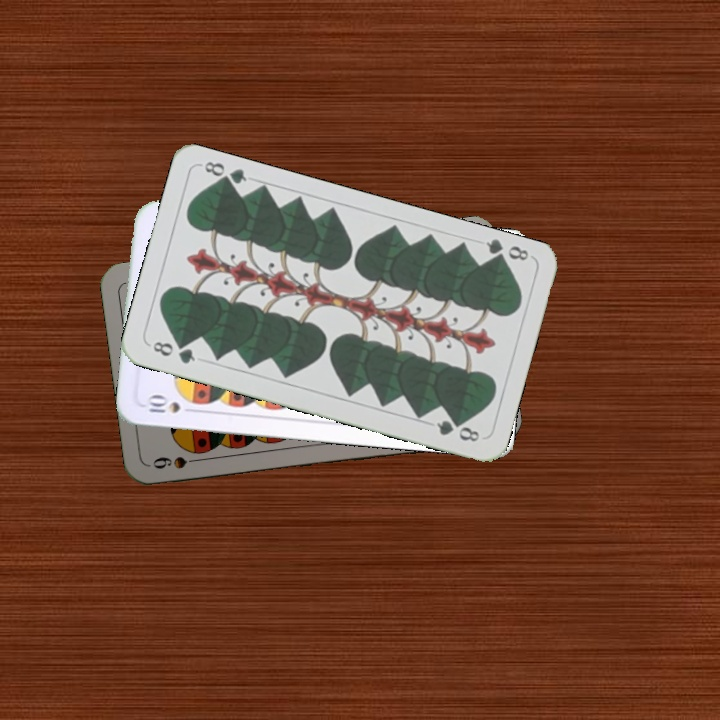G8: (482, 235, 531, 268), (148, 337, 198, 367)
S10: (143, 392, 199, 416)
S9: (148, 452, 208, 472)
